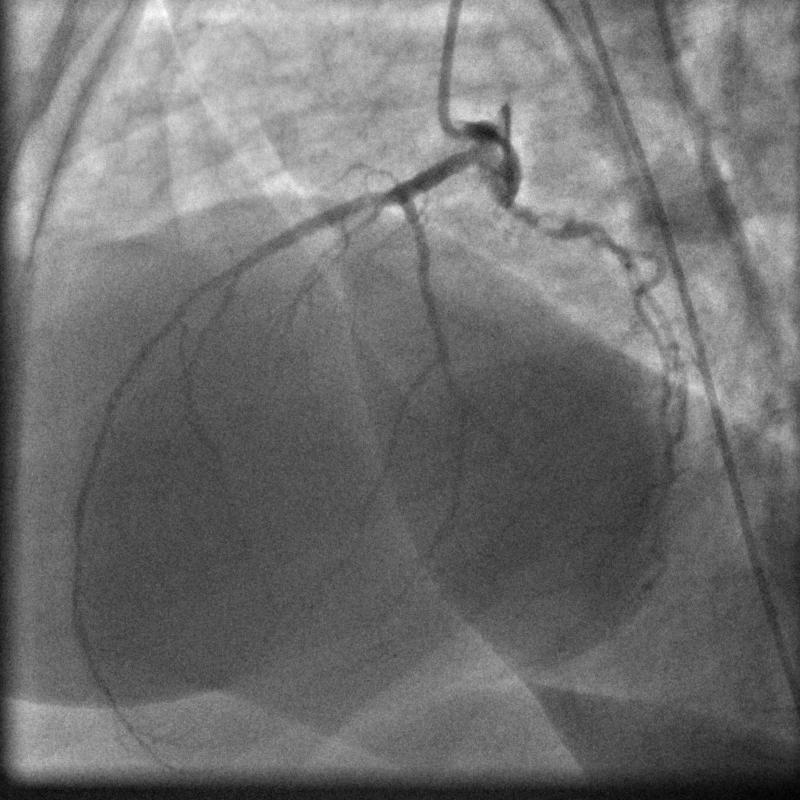Stenosis: (530, 201, 571, 252)
